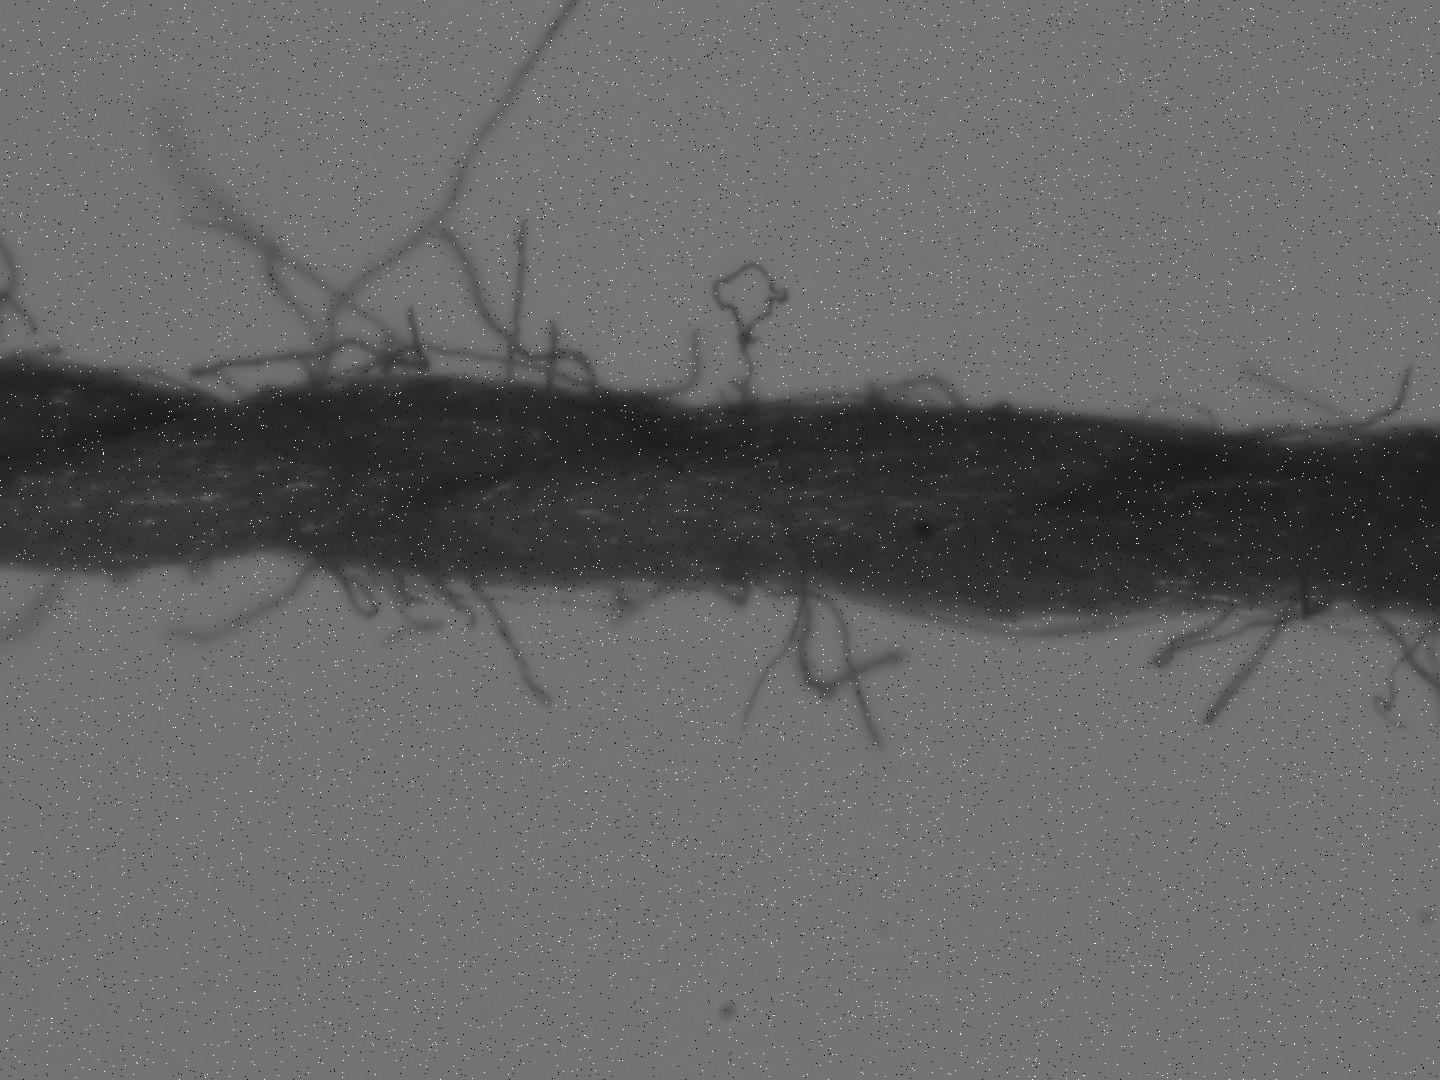loop_fiber: (1154, 594, 1337, 673), (706, 251, 793, 408), (786, 372, 991, 414), (1125, 388, 1228, 434)
protruding_fiber: (308, 0, 585, 386), (185, 297, 434, 407), (448, 237, 602, 405), (756, 581, 888, 746), (154, 558, 344, 643), (452, 562, 558, 708), (735, 545, 815, 734), (786, 580, 915, 694), (1252, 356, 1418, 442), (1202, 591, 1301, 725), (1366, 615, 1439, 736), (637, 322, 702, 400), (507, 212, 531, 389)
